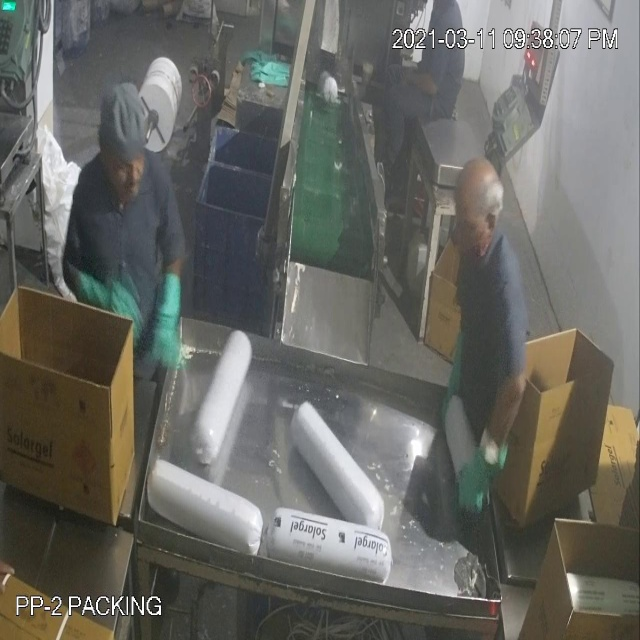Guantes: (453, 415, 516, 535), (142, 262, 187, 370)
